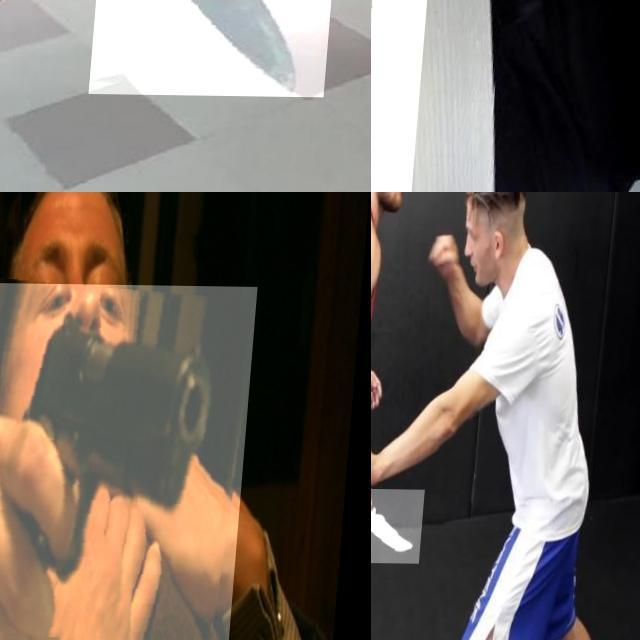-: (95, 0, 342, 95), (371, 0, 456, 192), (371, 487, 432, 562)
gun-knife-thesis - v11 Yolov5 augmented: (0, 281, 261, 640)
